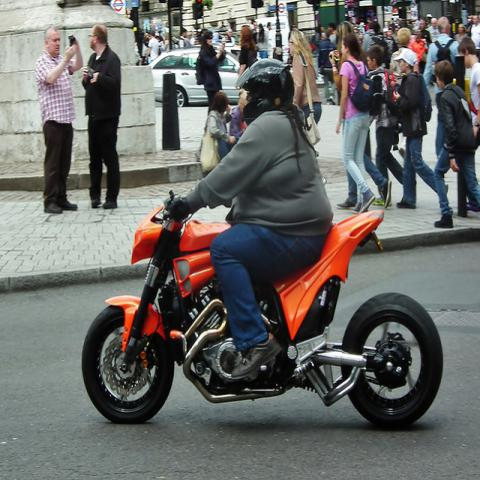car: (149, 46, 240, 107)
motorcycle: (77, 186, 451, 432)
